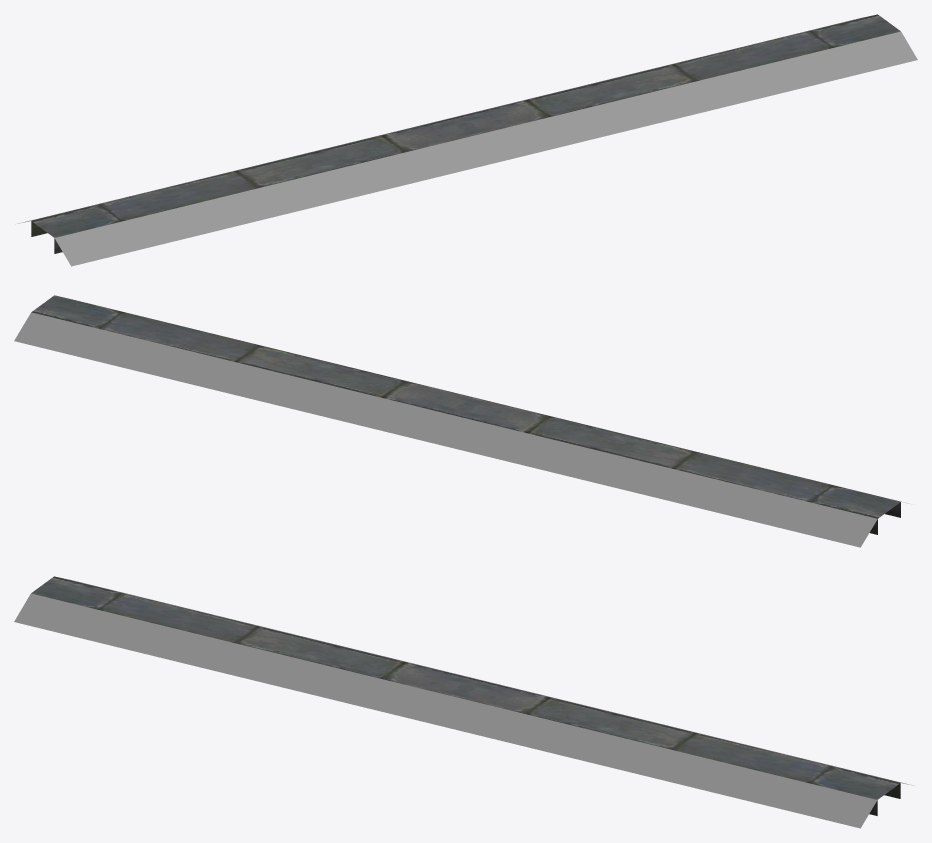
3 renders of one model, top to bottom at view 1: azimuth 30°, elevation 25°; view 2: azimuth 150°, elevation 25°; view 3: azimuth 330°, elevation 25°, orthographic.
Parts seen in each view (by area): view 1: Scene_Object_Di_4_Xzm, Scene_Object_Di_4; view 2: Scene_Object_Di_4_Xzm, Scene_Object_Di_4; view 3: Scene_Object_Di_4_Xzm, Scene_Object_Di_4.
Part boxes in pixels (x1,y1,x2,y2): Scene_Object_Di_4_Xzm: (17,15,917,266); Scene_Object_Di_4: (31,14,900,253); Scene_Object_Di_4_Xzm: (14,297,908,547); Scene_Object_Di_4: (31,295,900,534); Scene_Object_Di_4_Xzm: (14,577,914,828); Scene_Object_Di_4: (31,576,900,815).
Bounding box in the file's own units: 1046 × 19.14 × 123.
